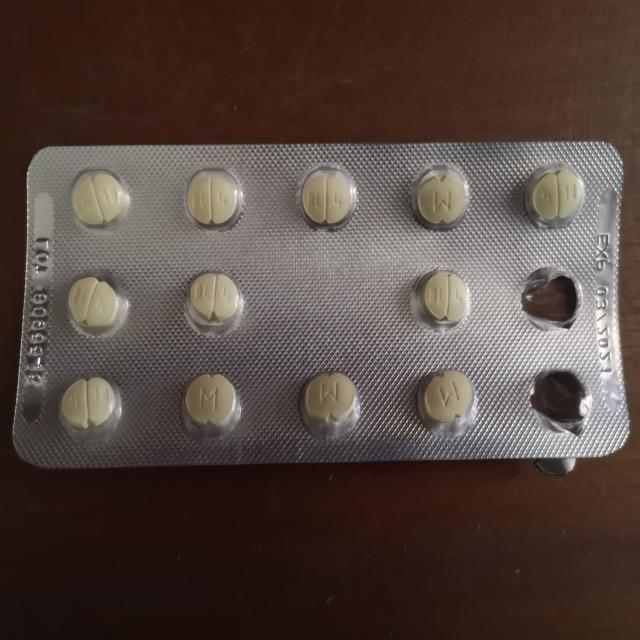Empty: (520, 361, 594, 438), (516, 258, 586, 335)
Pill: (177, 365, 247, 441), (53, 372, 128, 442), (521, 158, 590, 234), (408, 160, 479, 232), (61, 267, 130, 339), (181, 265, 247, 340), (179, 162, 249, 232), (294, 157, 357, 233), (295, 365, 366, 432), (414, 364, 481, 434), (64, 162, 131, 232), (414, 264, 477, 332)
